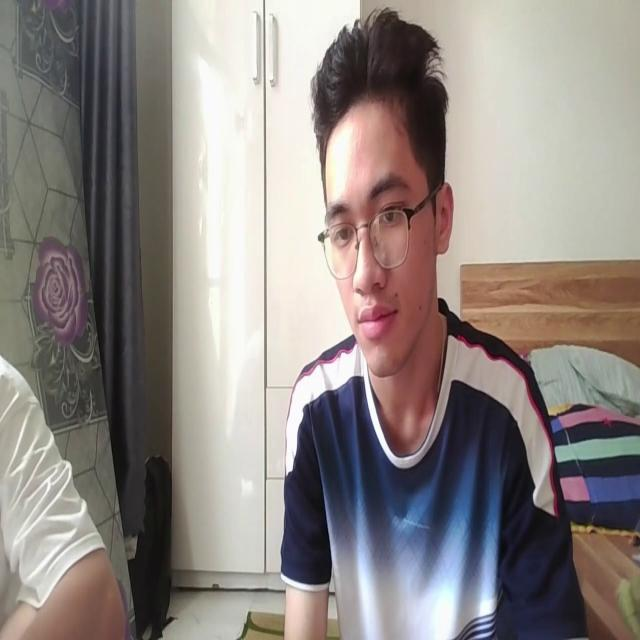extra_person: (0, 346, 127, 640)
student: (280, 8, 585, 640)
